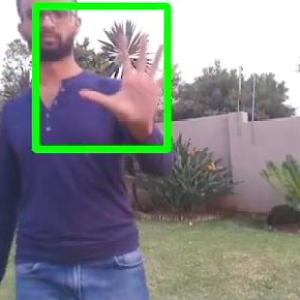follow_hand: (79, 27, 178, 128)
